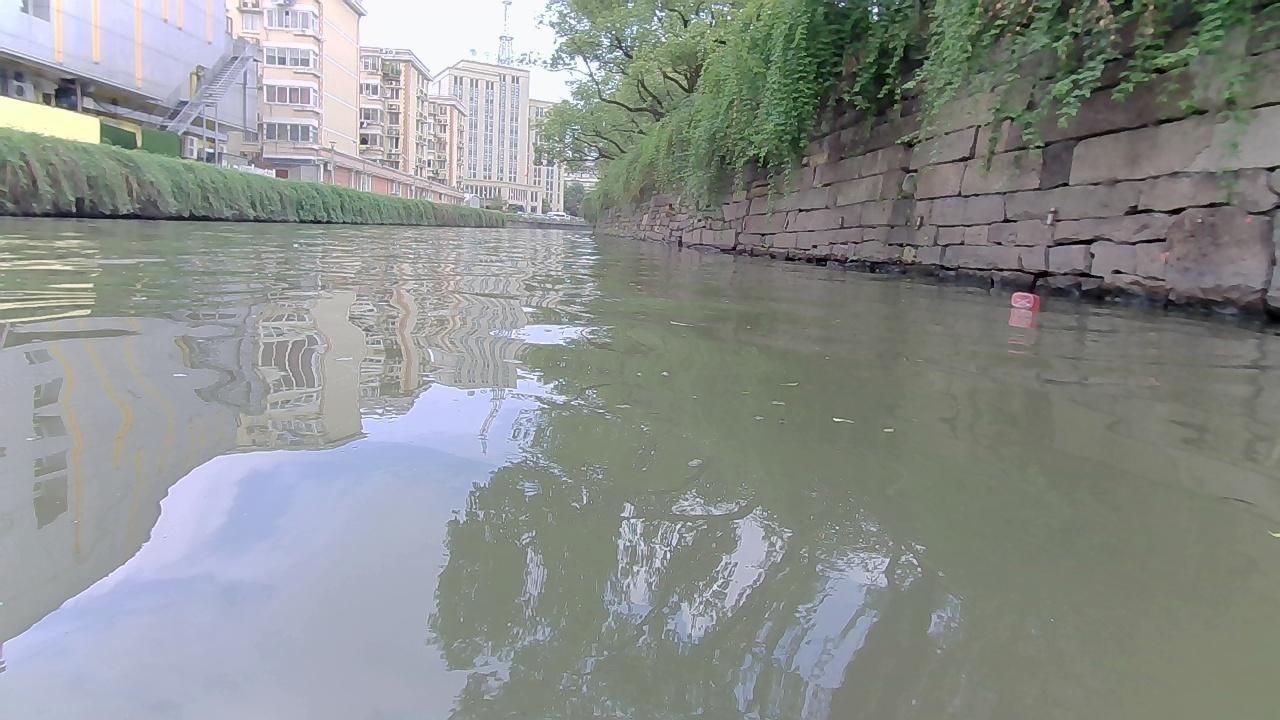bottle: (1008, 291, 1039, 307)
